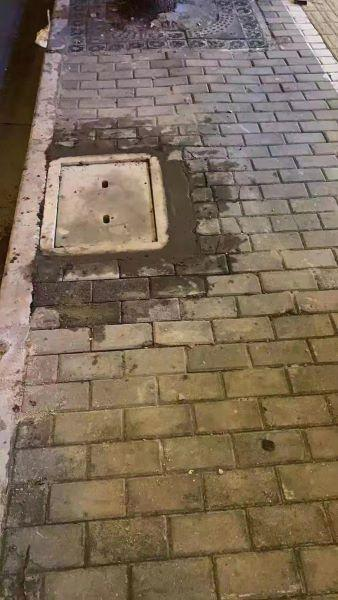good: (40, 140, 212, 296)
